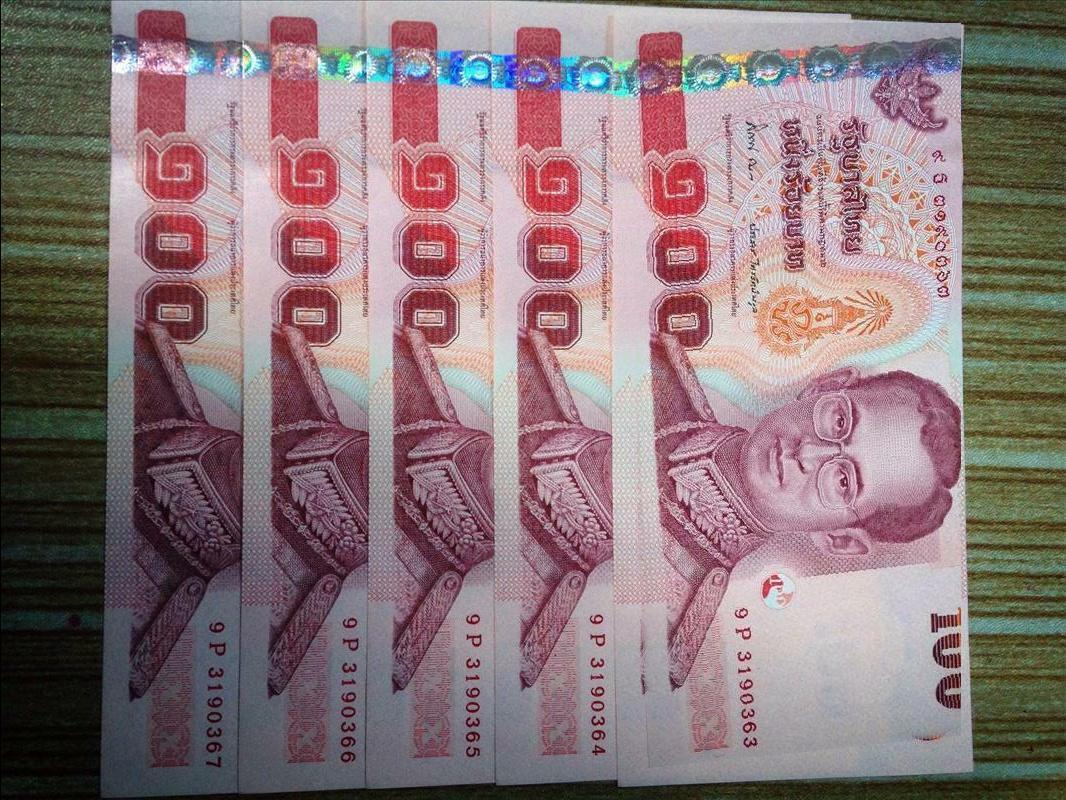100BahtTai: (616, 23, 962, 768)
